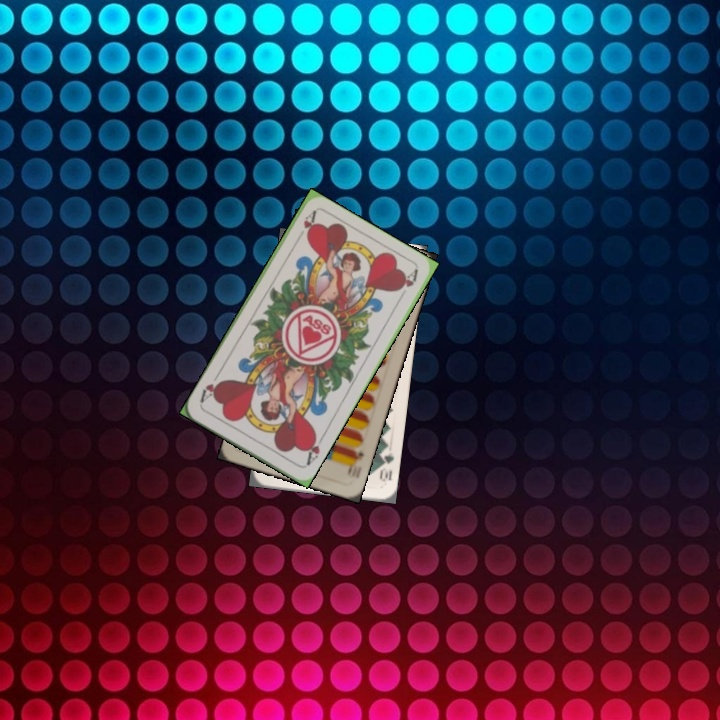E10: (343, 446, 367, 481)
G10: (376, 445, 397, 484)
HA: (301, 429, 327, 468), (299, 207, 319, 240)
